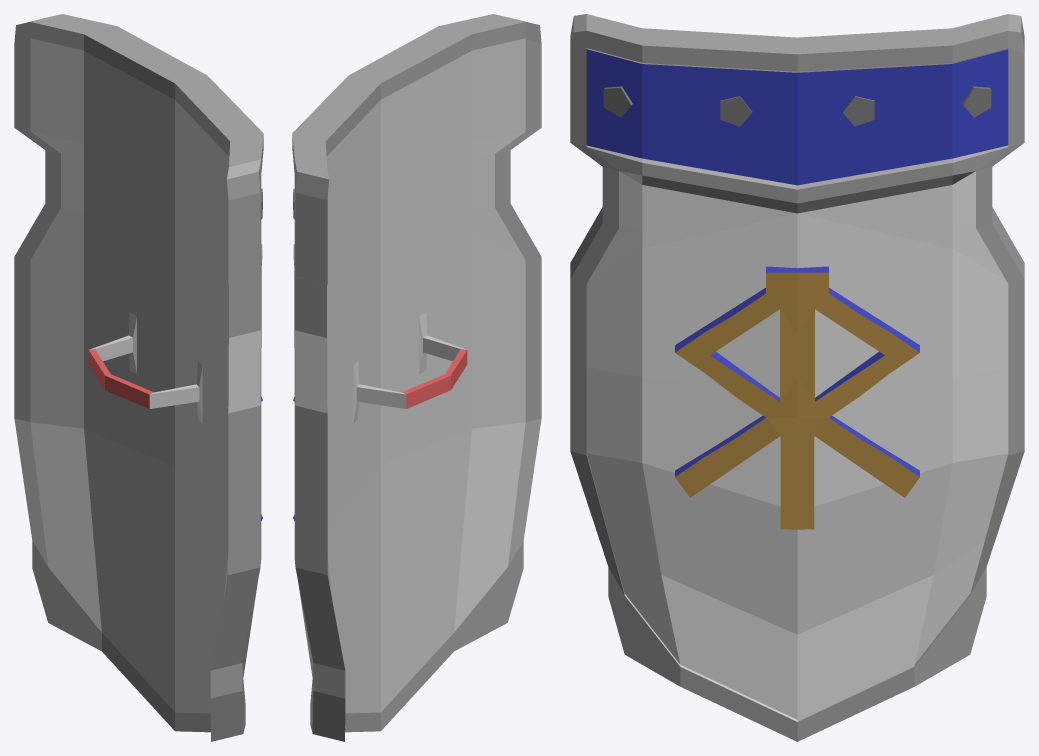
File: TowerShieldPaladin.obj
3 views of the same model, side by side, from view 1: azimuth 30°, elevation 25°; view 2: azimuth 150°, elevation 25°; view 3: azimuth 270°, elevation 25° (orthographic). The views are drawn at different scales.
Parts seen in each view (by area): view 1: Cube; view 2: Cube; view 3: Cube.
Boxes of the visible parts, x1=… form: Cube: x1=14, y1=14, x2=263, y2=741; Cube: x1=292, y1=14, x2=541, y2=741; Cube: x1=570, y1=14, x2=1024, y2=741.
Size of the model in its own units: 1.37 by 8.07 by 4.83.
